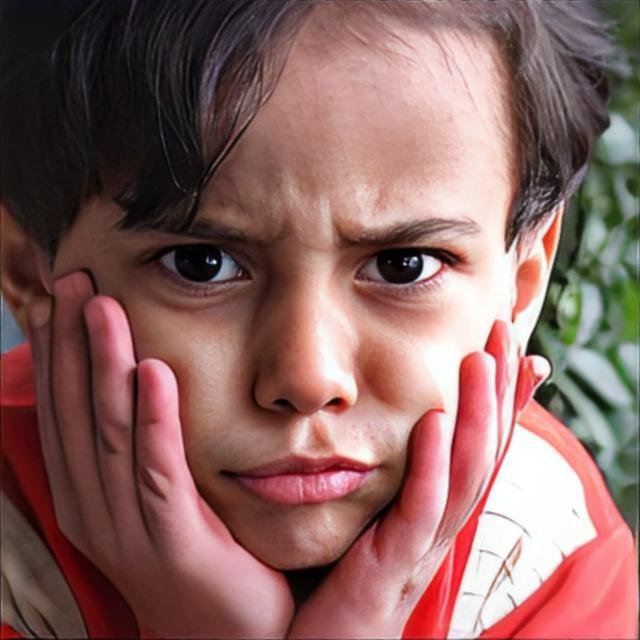anger: (101, 51, 512, 574)
